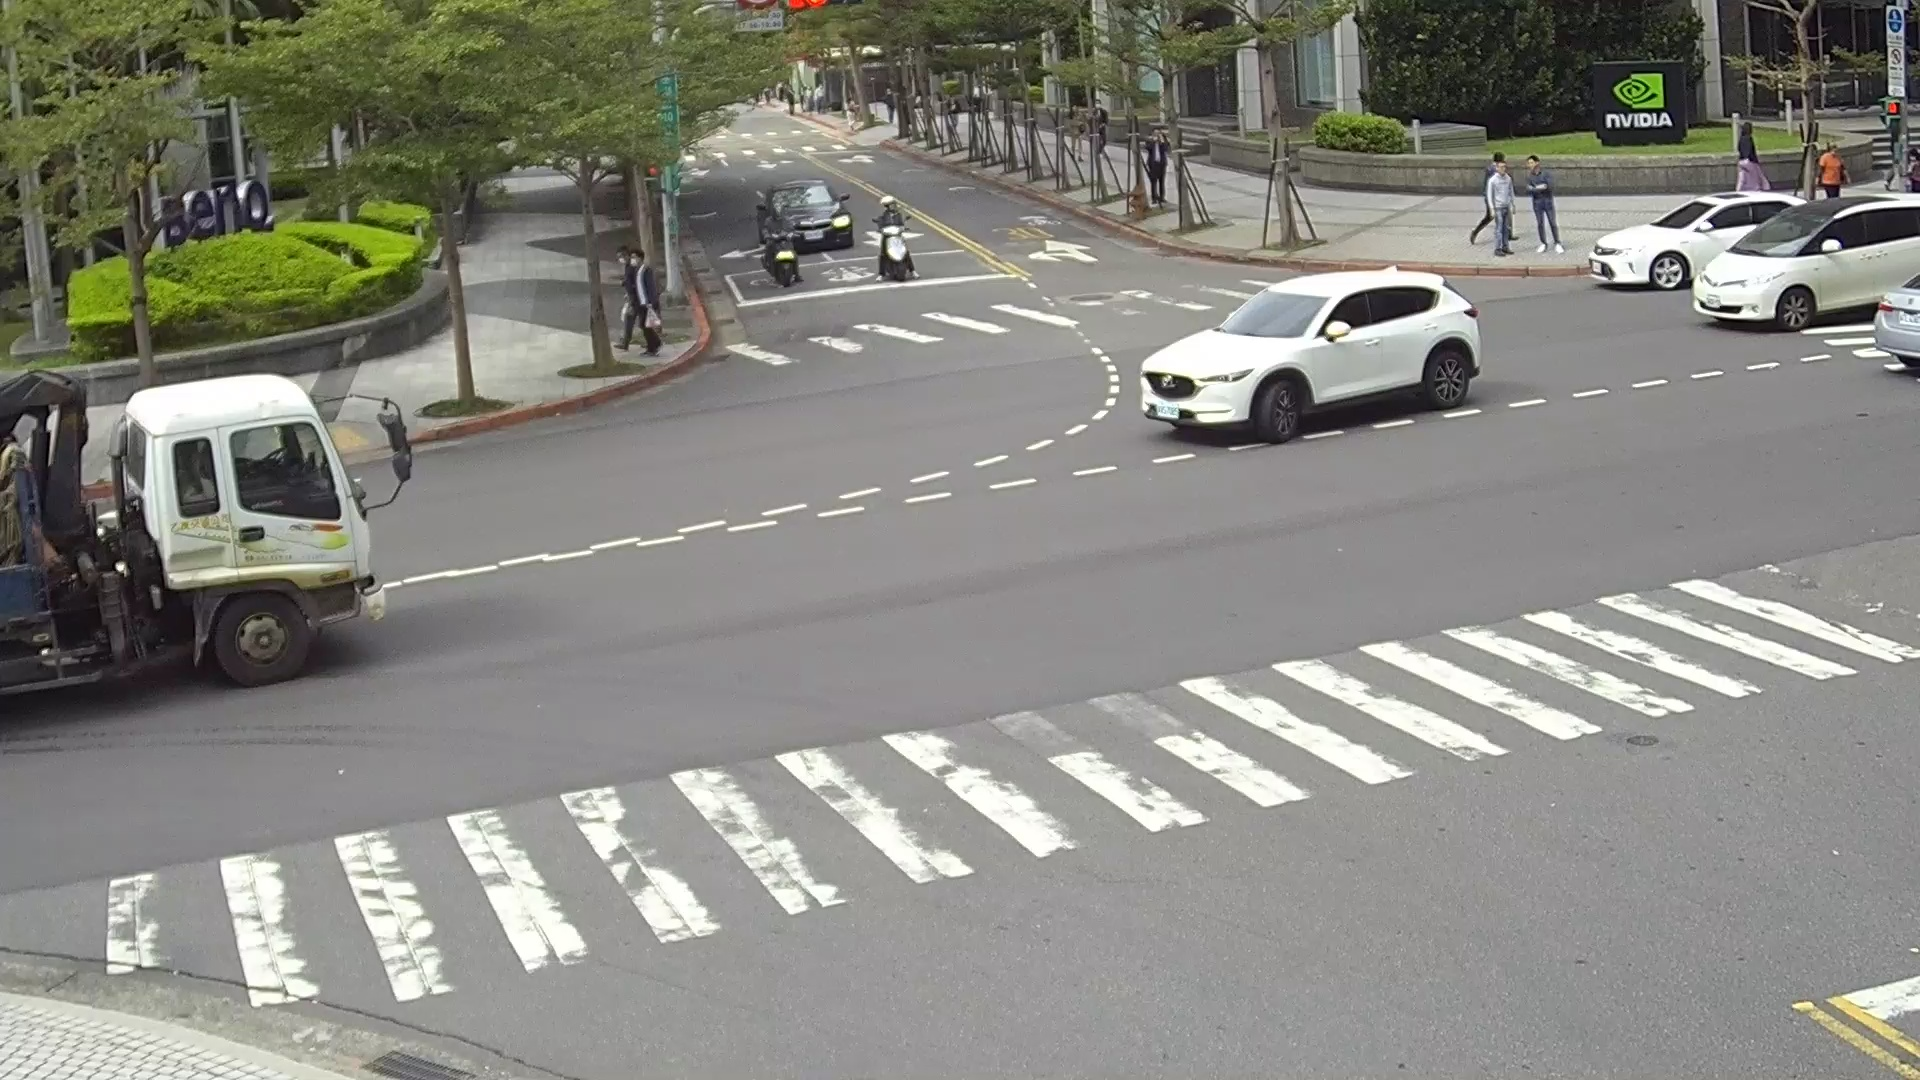bike: (761, 232, 802, 287), (874, 236, 918, 280)
pedestrian: (618, 246, 660, 351), (1518, 152, 1560, 252), (1477, 156, 1518, 255), (1736, 119, 1768, 190), (874, 223, 915, 280), (757, 205, 798, 257), (1815, 145, 1847, 198), (874, 197, 906, 239)
vehicle: (1, 364, 420, 749), (1136, 262, 1484, 445), (1689, 195, 1920, 332), (1585, 191, 1809, 287), (754, 179, 852, 255), (1878, 218, 1920, 381)
